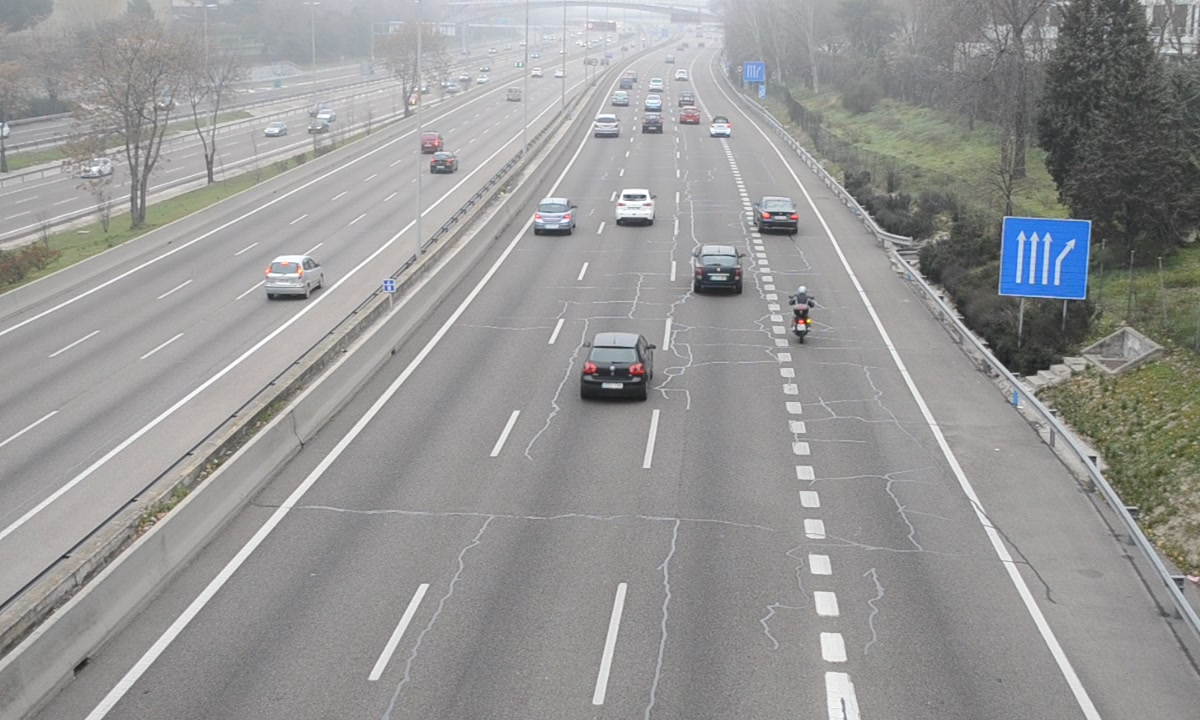car: (579, 332, 653, 401), (694, 247, 743, 294), (753, 195, 798, 233), (532, 199, 576, 236), (615, 189, 657, 226), (594, 111, 620, 139), (710, 115, 731, 139)
motorcycle: (787, 283, 816, 346)
